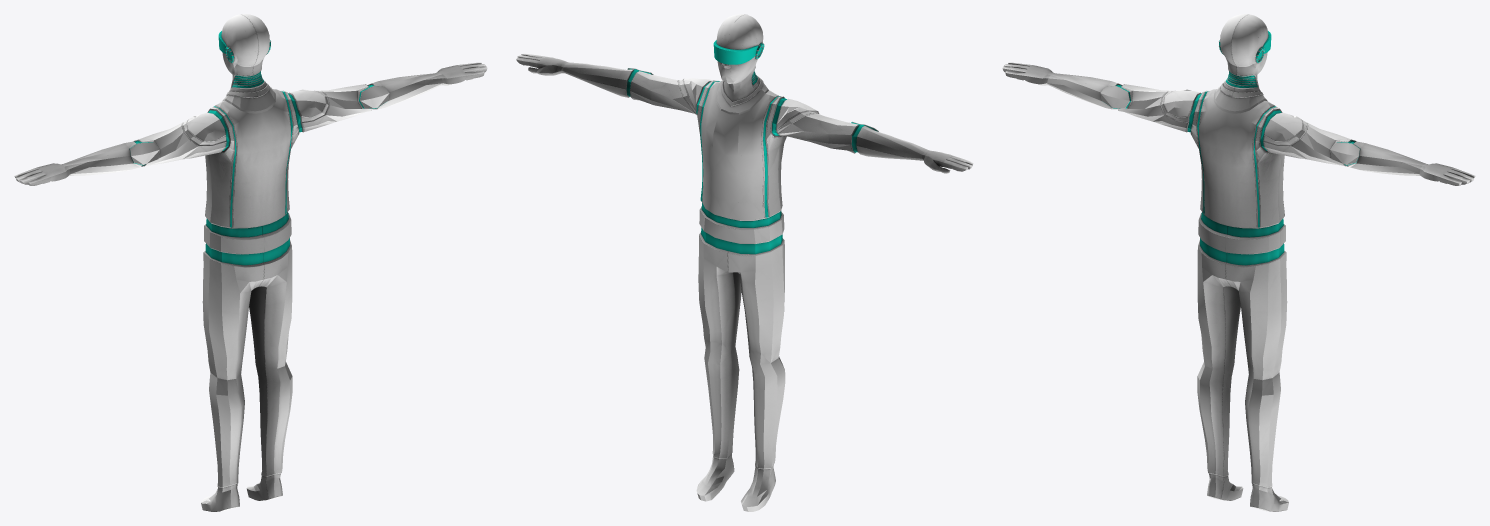
File: X-Series-M02.obj
3 views of the same model, side by side, from view 1: azimuth 30°, elevation 25°; view 2: azimuth 150°, elevation 25°; view 3: azimuth 330°, elevation 25° (orthographic). The views are drawn at different scales.
Visible parts, largest first — view 1: Body, Head; view 2: Body, Head; view 3: Body, Head.
Part boxes in pixels (left/top/right/bottom): Body: left=14, top=62, right=487, bottom=511; Head: left=218, top=14, right=270, bottom=92; Body: left=516, top=53, right=973, bottom=511; Head: left=713, top=14, right=764, bottom=101; Body: left=1002, top=62, right=1475, bottom=511; Head: left=1219, top=14, right=1271, bottom=92.
Bounding box in the file's own units: 1.79 × 1.81 × 0.2491.
2 materials, 2 textured.
